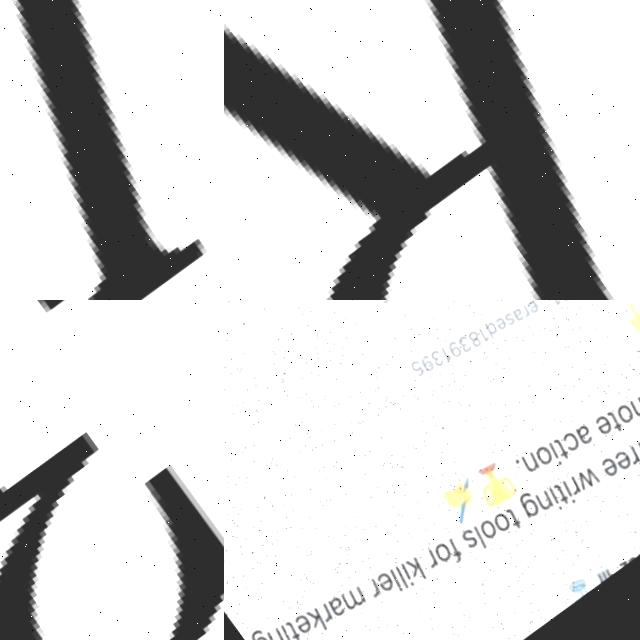1: (433, 344, 452, 367), (471, 327, 489, 348), (542, 300, 561, 311)
2: (550, 300, 570, 307)
3: (0, 300, 224, 640), (450, 335, 472, 359), (423, 350, 444, 372)
5: (404, 360, 423, 382)
8: (460, 330, 481, 353)
9: (439, 340, 463, 364), (414, 354, 434, 377)
D: (0, 0, 224, 300)
R: (224, 0, 640, 300)
